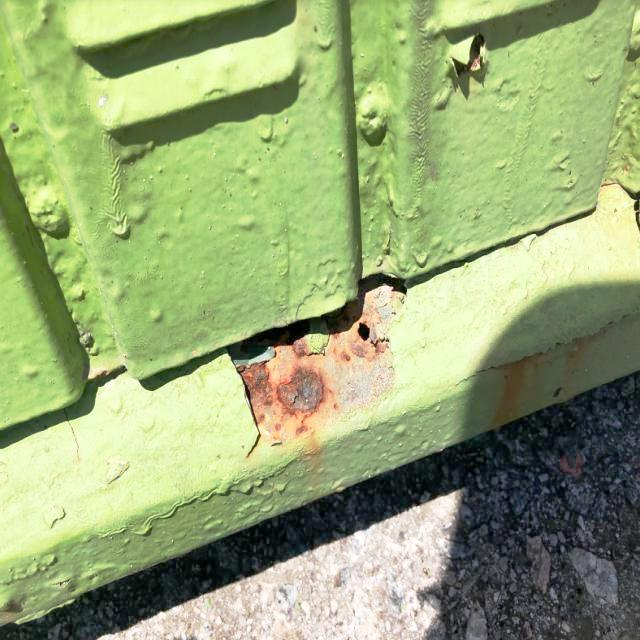Corrosion: (225, 275, 402, 459), (459, 333, 559, 388), (453, 31, 485, 80)
